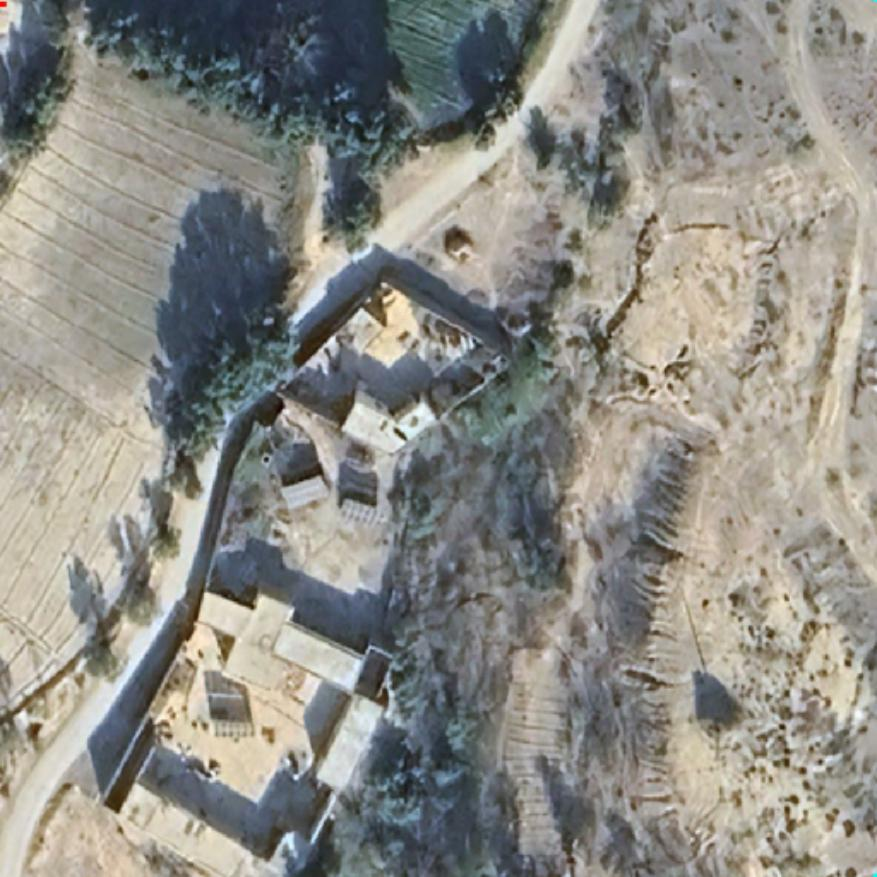Solarpanel: (335, 492, 379, 529), (210, 716, 256, 742)
